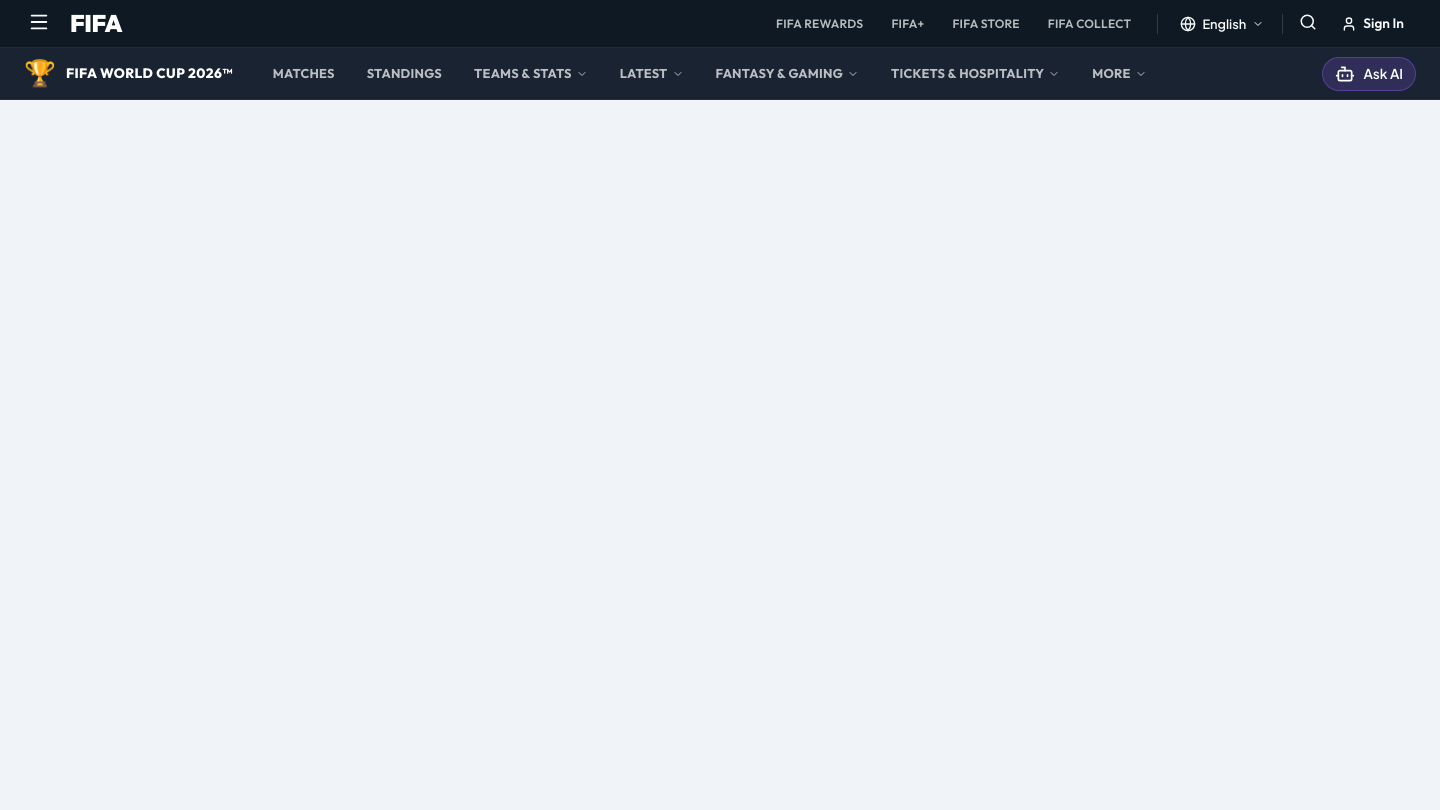
Header Component › opens search overlay on click
Click the button named "Search" at coordinates (1308, 24), box [1291,5,1325,42]
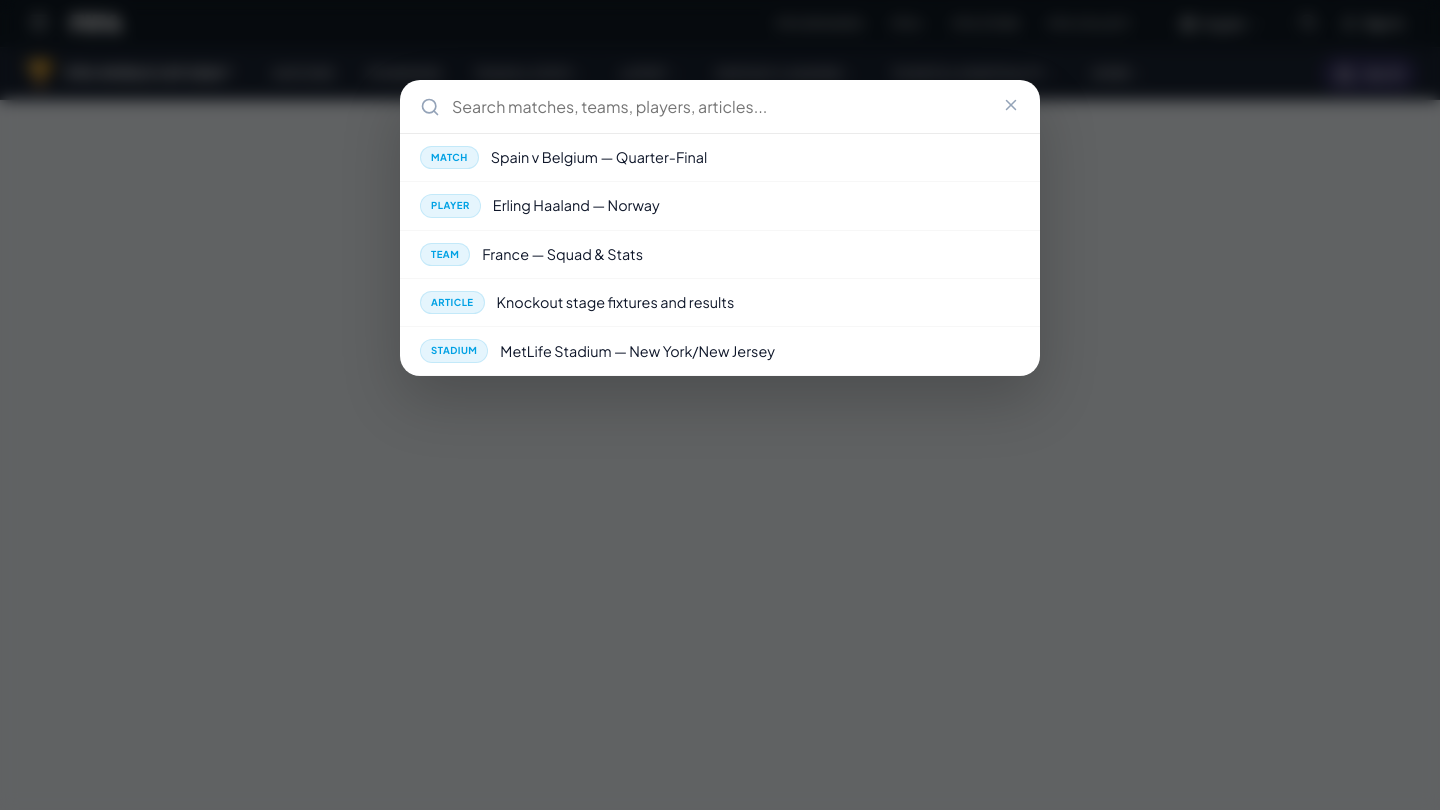
Result: the field with placeholder "Search matches, teams, players, articles..." is shown at [452,96,990,117]
